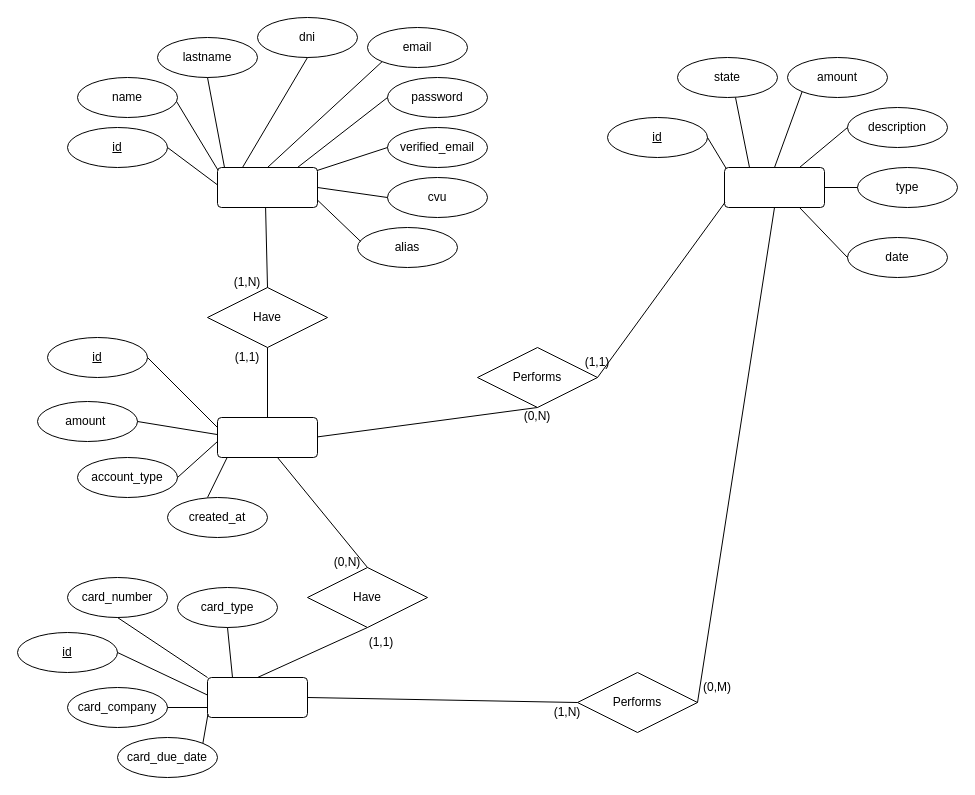
This 975x795 diagram has some shape labels left out. Each missing label, with the centre of its shape:
Account: [267,437]
Card: [257,697]
Transaction: [774,187]
User: [267,187]
